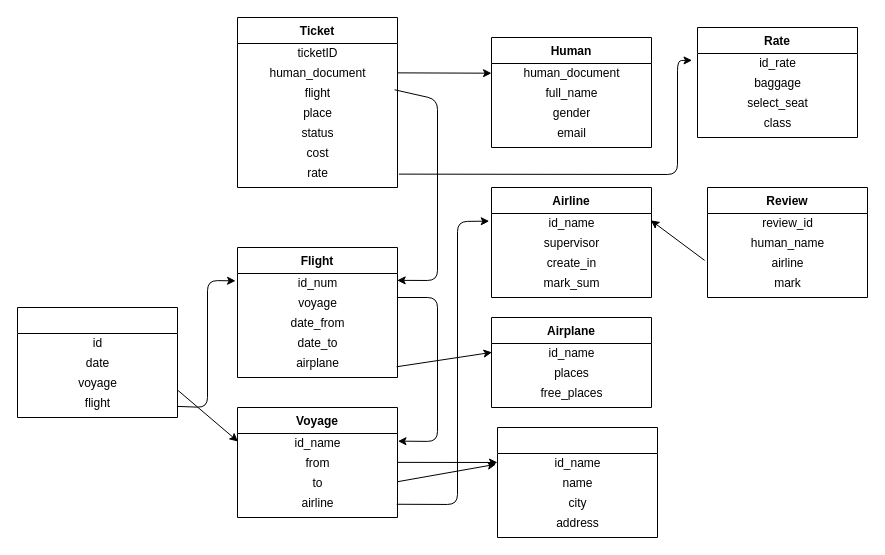
Some shapes in this 885 by 555 pixel diagram are drawn without their labels. The box of each missing label's shape, as (x1, y1, x2, y2) in pixels:
Airport: (496, 426, 658, 538)
Timetable: (16, 306, 178, 418)
